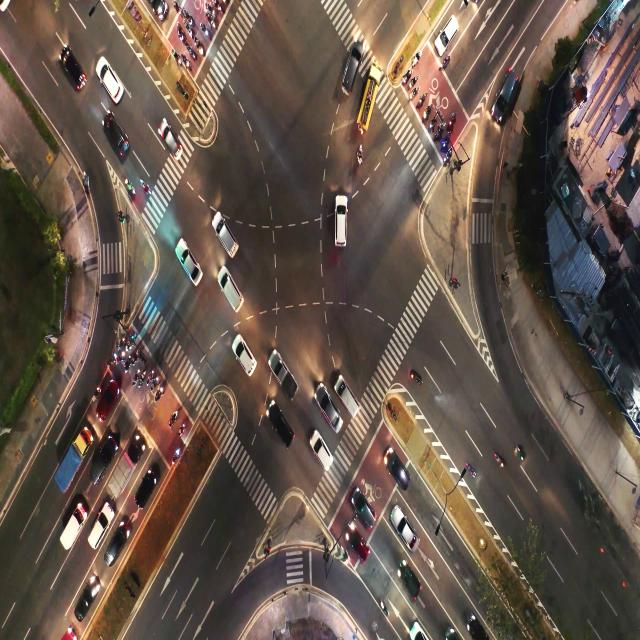bus: (365, 90, 373, 115)
car: (500, 70, 518, 111), (219, 225, 240, 253), (184, 257, 202, 284), (407, 568, 420, 604), (274, 416, 292, 438), (156, 133, 180, 149), (70, 65, 84, 91), (356, 540, 371, 564), (110, 127, 122, 157), (106, 64, 118, 93), (318, 408, 337, 426), (338, 217, 350, 244), (96, 442, 104, 480), (140, 478, 153, 497), (395, 471, 409, 488), (226, 287, 241, 302), (446, 19, 454, 47), (345, 393, 354, 417), (406, 529, 416, 549), (366, 504, 374, 528), (323, 448, 330, 475), (241, 352, 253, 367), (96, 516, 102, 543), (103, 391, 111, 411), (346, 66, 353, 86), (78, 595, 87, 610), (113, 542, 119, 554)
motorcycle: (78, 170, 95, 192), (411, 368, 424, 388), (138, 177, 151, 195), (463, 460, 475, 478), (514, 445, 524, 462), (494, 448, 502, 468), (382, 601, 388, 619), (202, 28, 210, 39), (341, 546, 348, 558), (154, 374, 160, 387), (173, 449, 180, 460), (159, 386, 165, 398), (129, 181, 134, 195), (197, 44, 204, 54), (358, 147, 362, 162), (172, 413, 178, 423), (180, 33, 186, 43), (174, 6, 180, 16), (188, 17, 195, 25), (210, 22, 218, 29), (134, 350, 139, 361), (96, 382, 101, 393), (451, 113, 456, 123), (121, 335, 126, 345), (185, 59, 190, 69), (444, 56, 448, 68), (180, 426, 186, 434), (190, 50, 196, 58), (218, 5, 224, 13), (436, 127, 440, 138), (187, 31, 193, 38), (174, 55, 179, 63), (211, 6, 215, 16), (447, 150, 451, 159), (426, 107, 430, 115), (122, 348, 125, 358), (444, 139, 448, 146), (420, 98, 424, 105), (415, 56, 419, 63), (150, 372, 154, 379), (142, 371, 146, 378), (128, 355, 131, 364), (433, 116, 436, 124), (136, 369, 140, 375), (128, 338, 131, 346), (112, 354, 115, 361), (412, 91, 417, 94), (405, 76, 408, 80), (412, 80, 415, 83)
truck: (60, 445, 78, 480), (272, 354, 286, 385), (69, 512, 80, 533), (118, 464, 127, 481)
